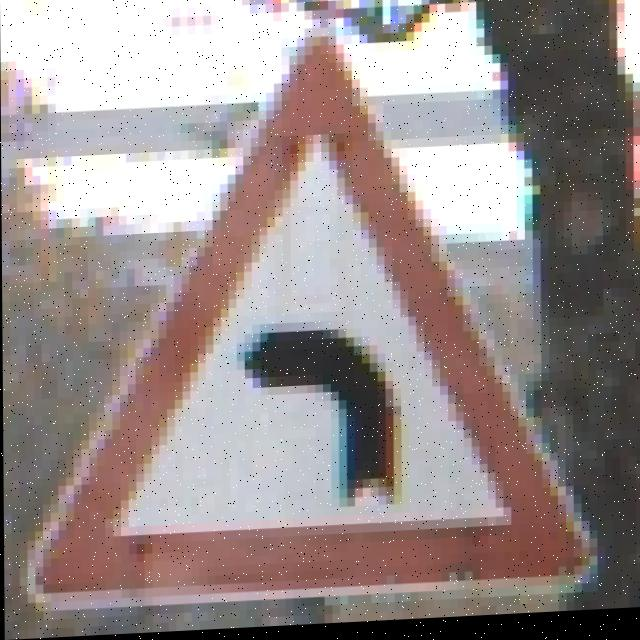left_turn: (65, 103, 586, 615)
